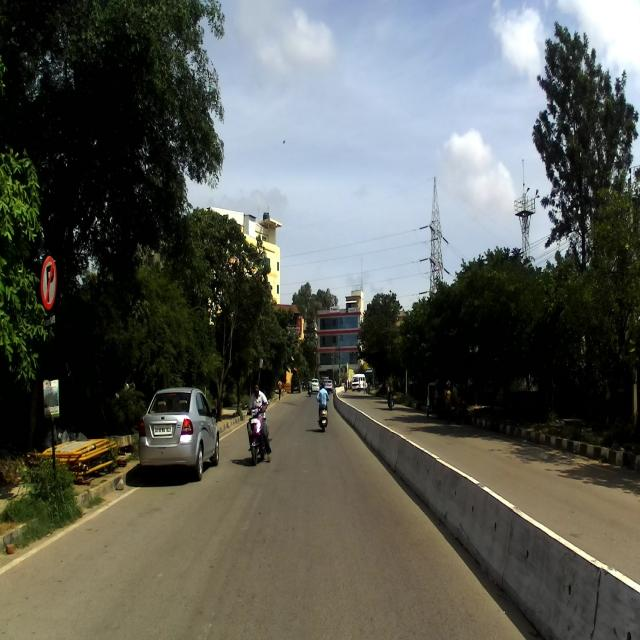car: (137, 386, 220, 482)
scooter: (244, 400, 272, 466)
